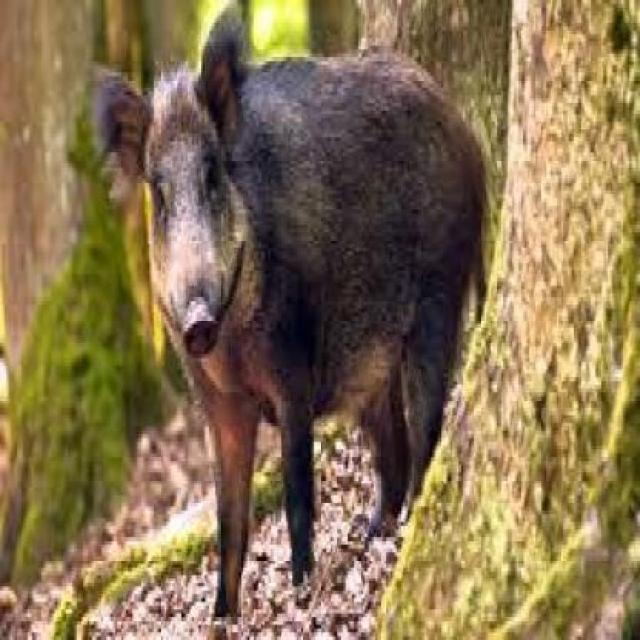wildboar: (87, 11, 496, 640)
